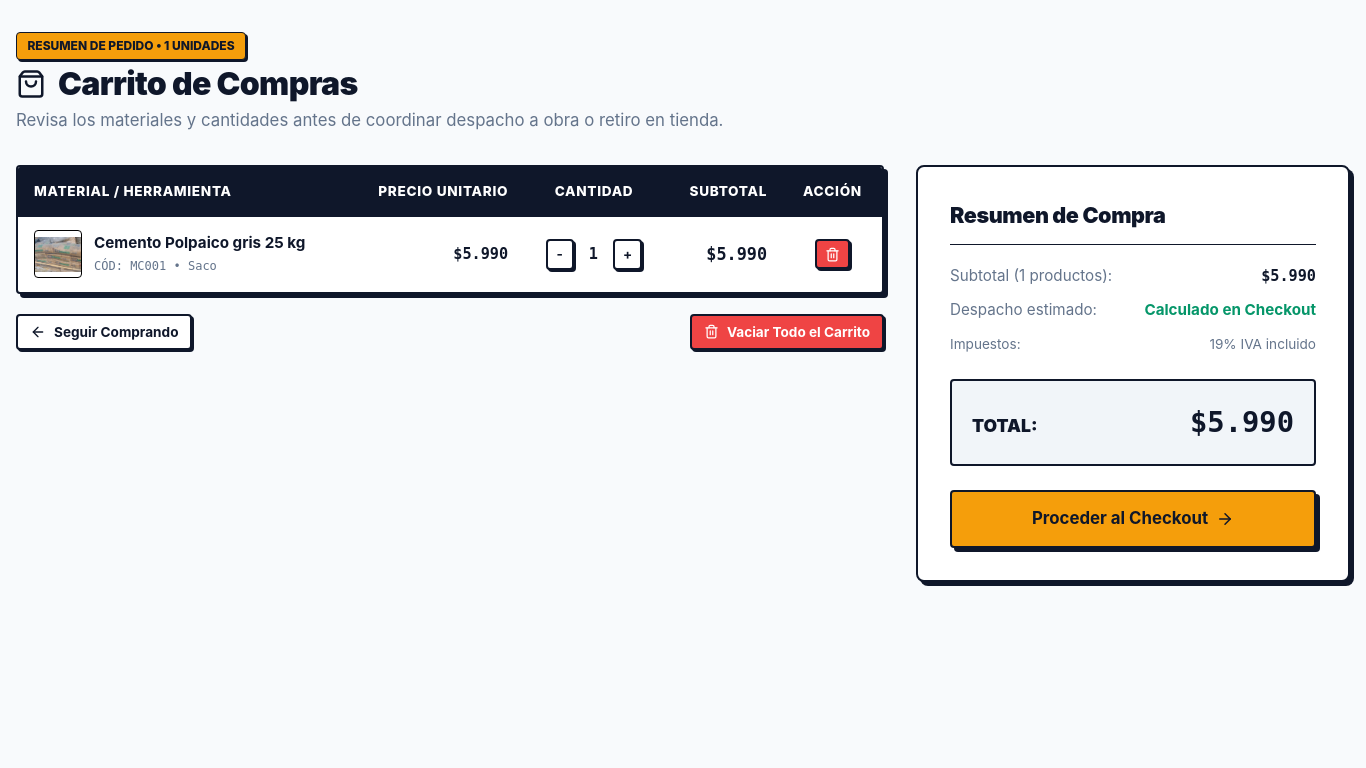
Test: Página del Carrito de Compras (Cart) › debe incrementar la cantidad del ítem y recalcular el total al hacer clic en el botón +
This screenshot has width=1366, height=768.
Click the button named "Aumentar cantidad".
click(628, 254)  # box left=613, top=239, right=642, bottom=270
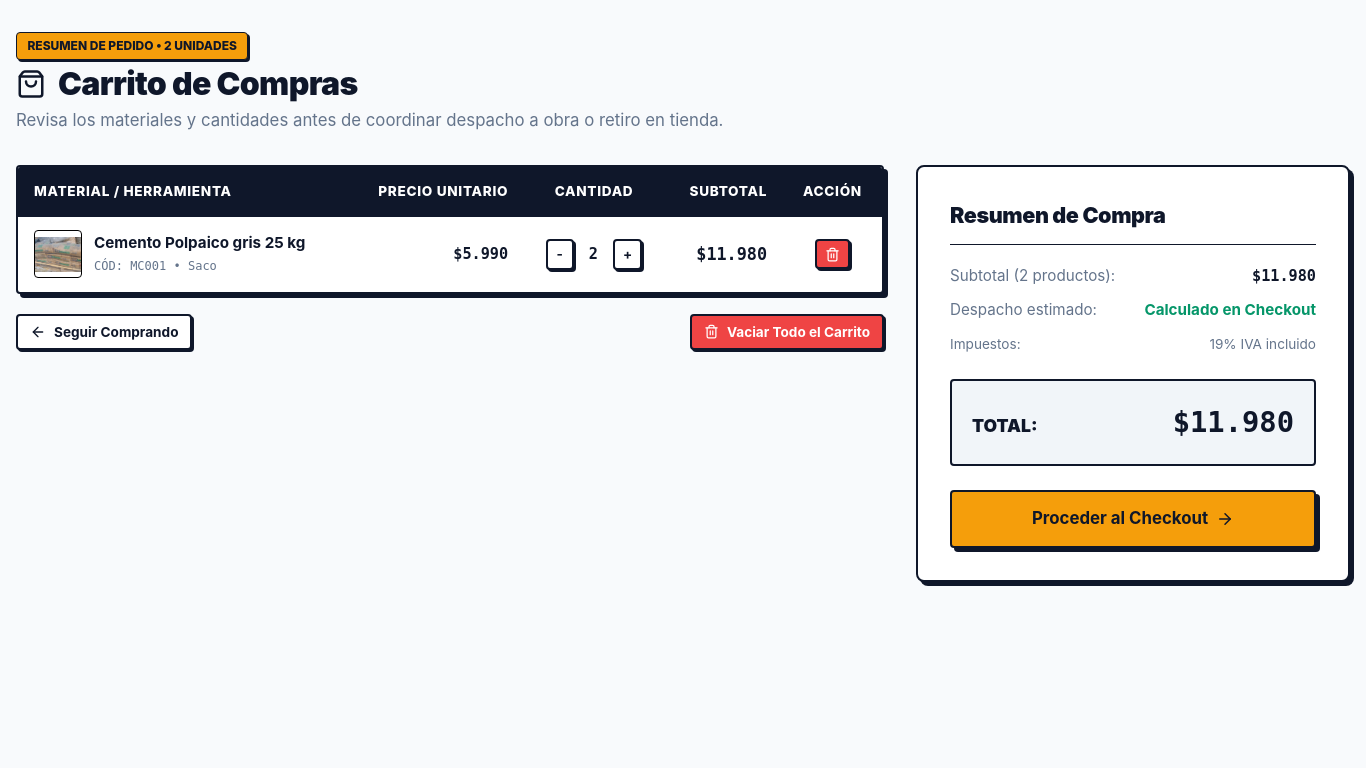
Now the text "2" is shown, box left=589, top=245, right=598, bottom=263
Now the text "$11.980" is shown, box left=664, top=216, right=783, bottom=292
